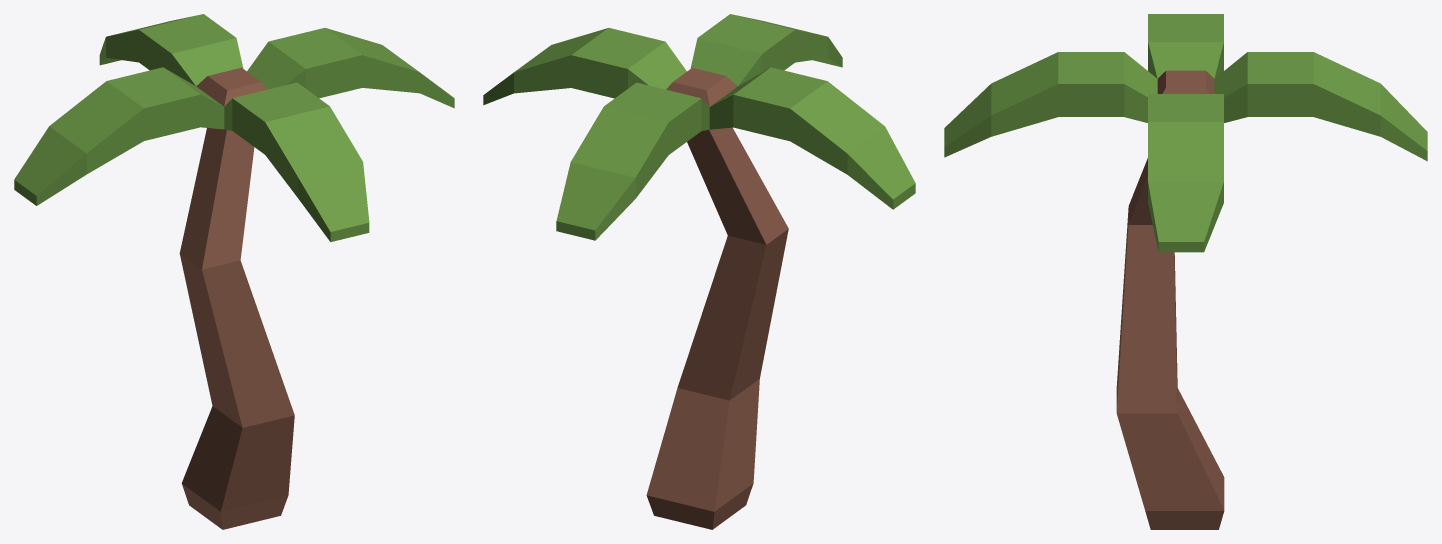
File: tree_palmShort.fbx
3 views of the same model, side by side, from view 1: azimuth 30°, elevation 25°; view 2: azimuth 150°, elevation 25°; view 3: azimuth 270°, elevation 25° (orthographic).
Visible parts, largest first — view 1: tree_palmShort; view 2: tree_palmShort; view 3: tree_palmShort.
Boxes of the visible parts, x1,y1,x2,y2 form: tree_palmShort: [14, 14, 454, 529]; tree_palmShort: [483, 14, 915, 529]; tree_palmShort: [944, 14, 1427, 529].
Bounding box in the file's own units: 3.29 × 3.36 × 3.29.
